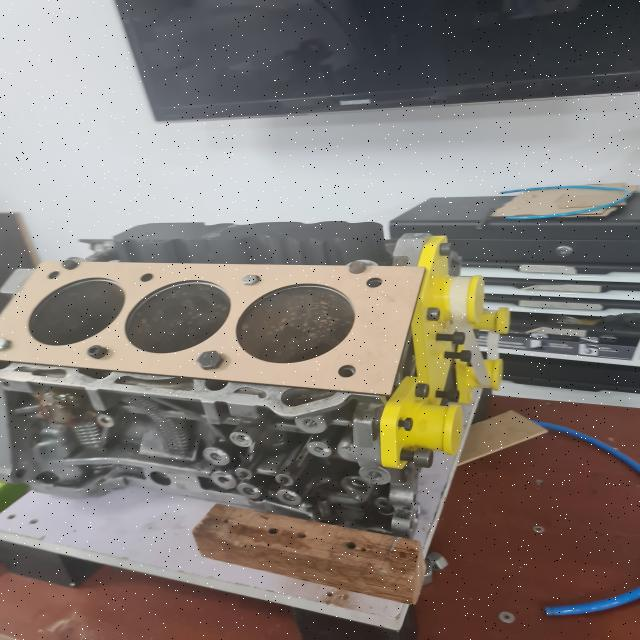vista1: (0, 260, 427, 396)
